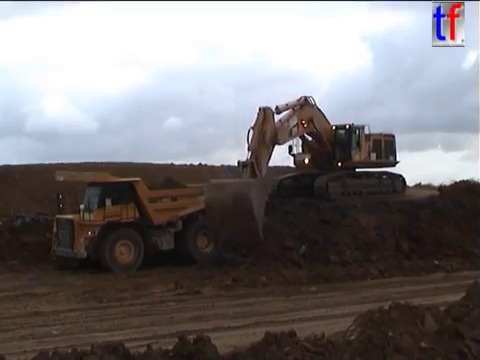excavator: (201, 93, 409, 246)
truck: (44, 168, 236, 275)
